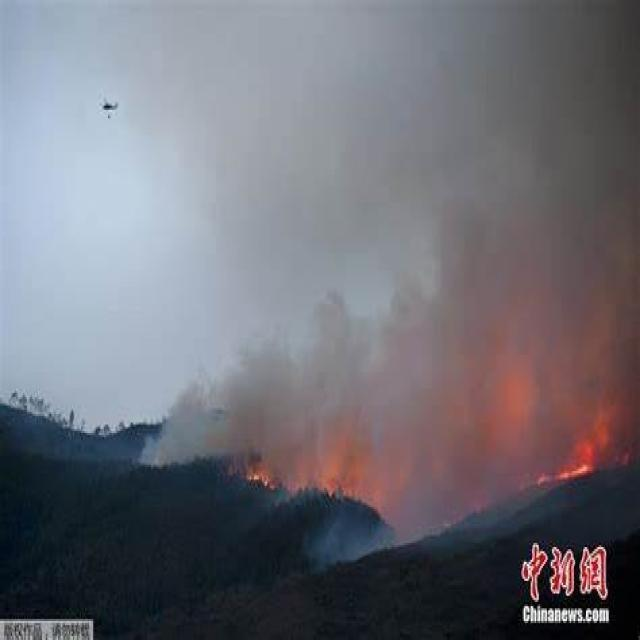Fire: (536, 462, 590, 486)
Smoke: (139, 2, 640, 575)
